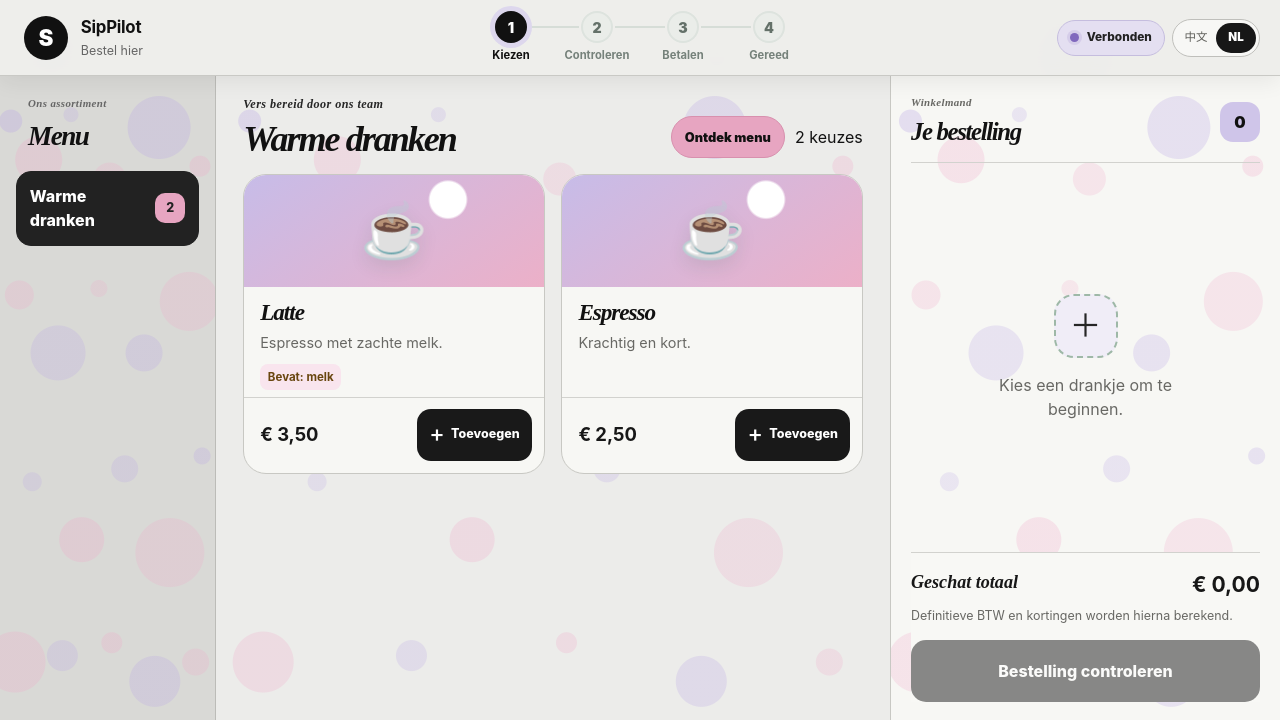
Customer kiosk ordering workflow › completes payment and displays the backend receipt and pickup number
The image size is (1280, 720).
expect the heading "Warme dranken" is shown: met, box [243, 121, 456, 158]
Click the button with aria-label "Latte toevoegen" at [474, 435], box [417, 409, 532, 461]
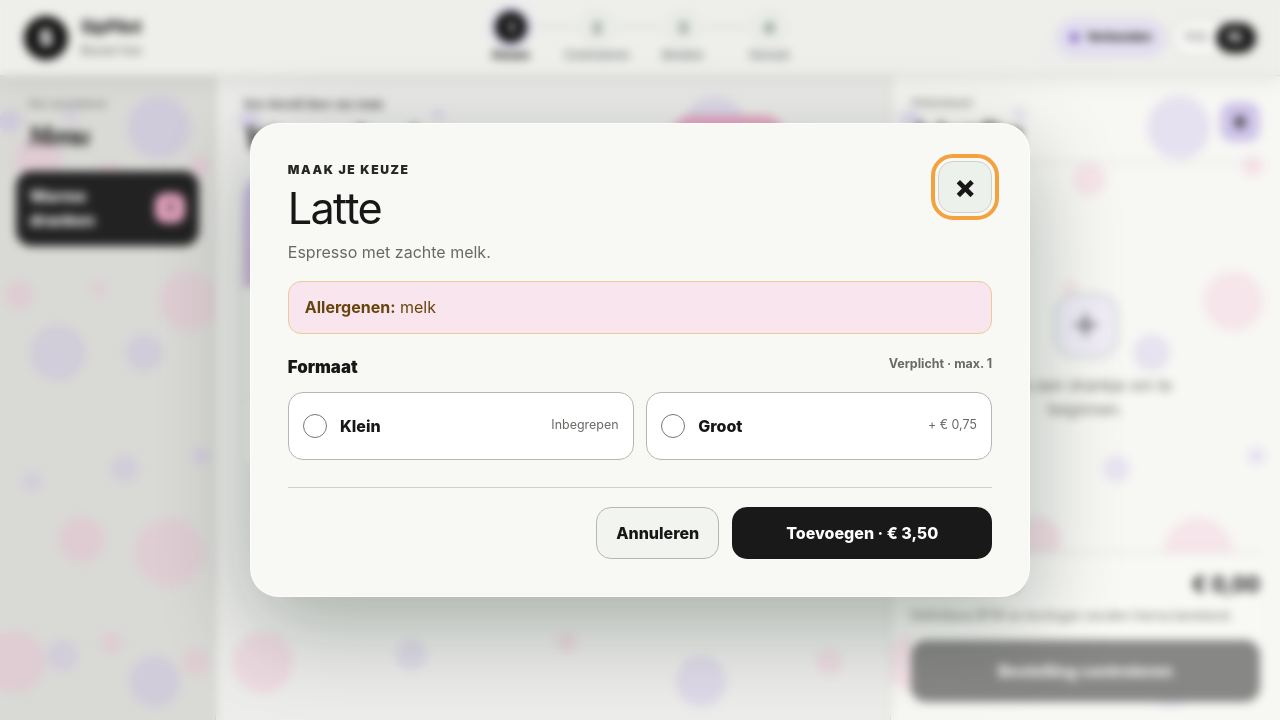
Click the radio button labelled "Groot + € 0,75" at [673, 426], box [661, 414, 685, 438]
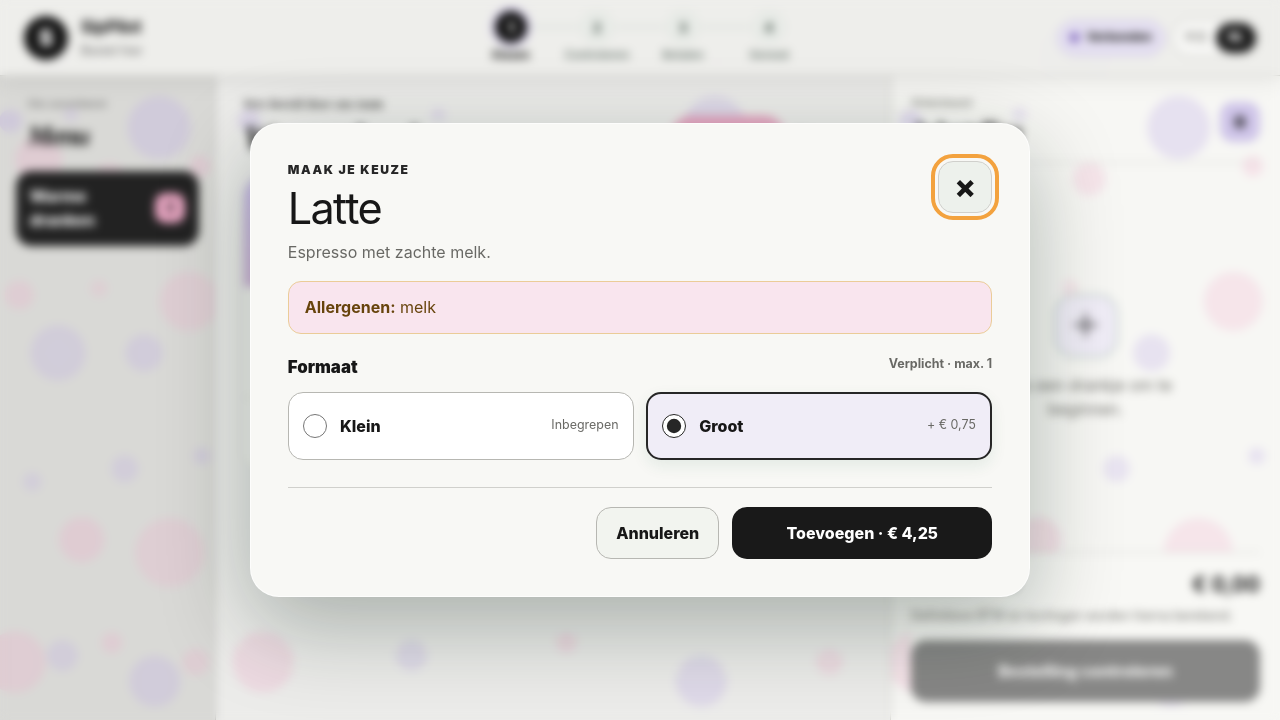
Click the button "Toevoegen · € 4,25" at [862, 533], box [732, 507, 992, 559]
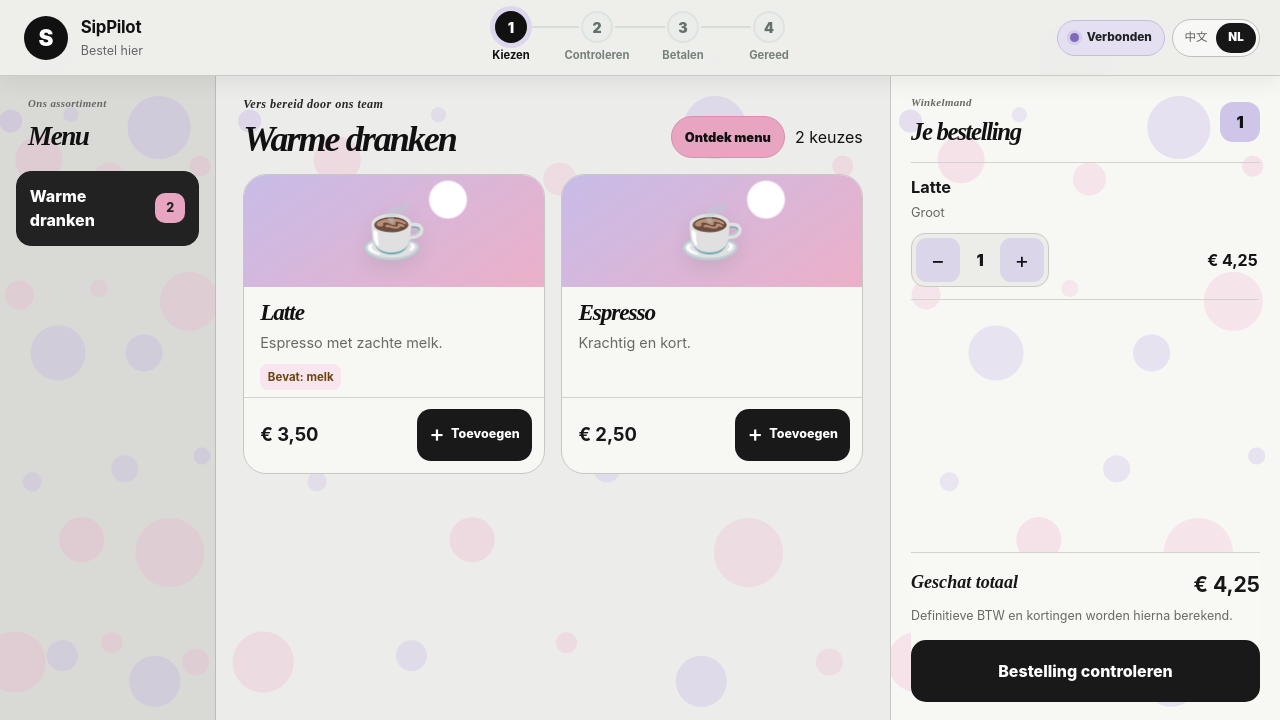
Click the button "Bestelling controleren" at [1086, 671], box [911, 640, 1260, 702]
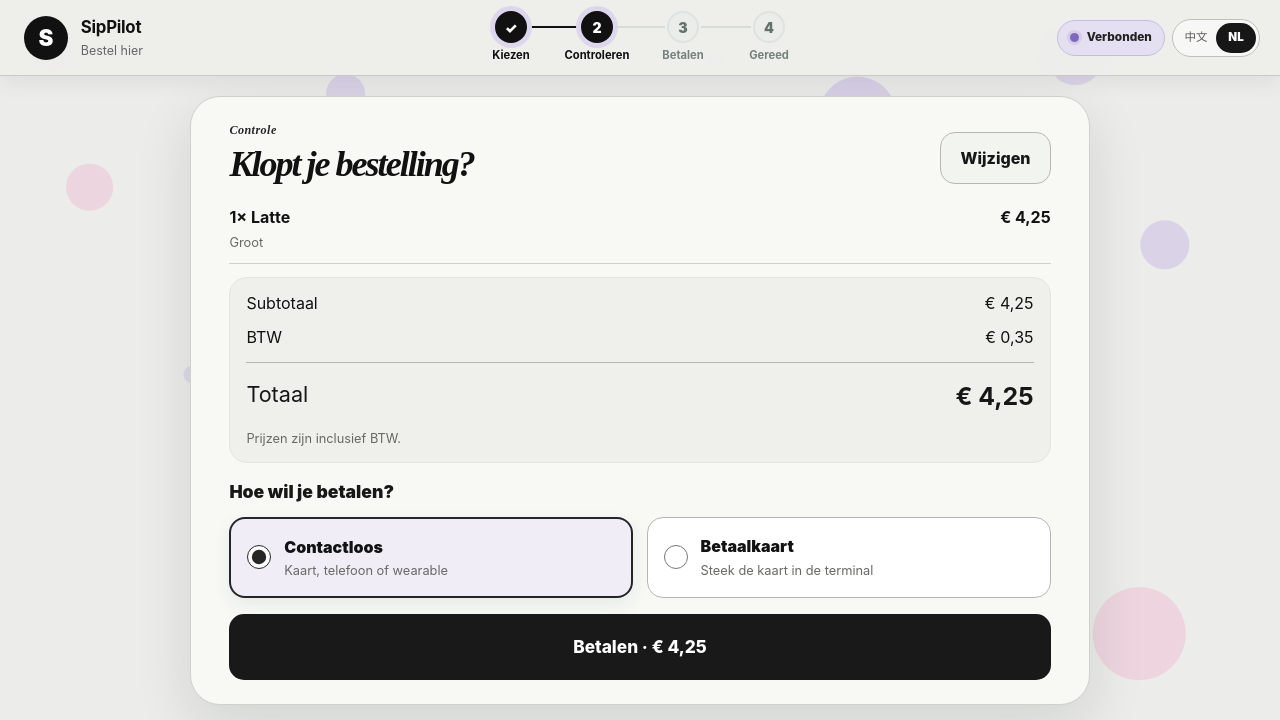
expect the heading "Klopt je bestelling?" is shown: met, box [229, 146, 474, 184]
Click the button "Betalen · € 4,25" at [640, 647], box [229, 614, 1051, 680]
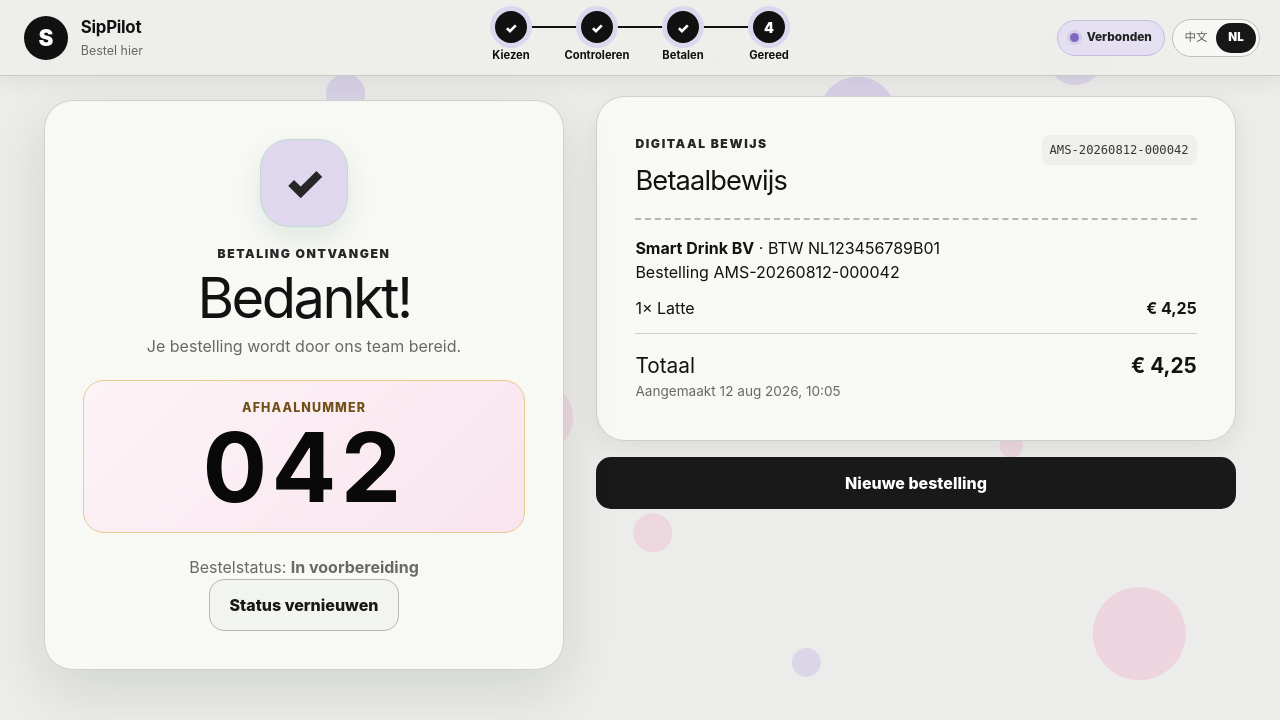
expect the heading "Bedankt!" is shown: met, box [197, 264, 410, 332]
expect the text "042" is shown: met, box [202, 409, 406, 525]
expect the heading "Betaalbewijs" is shown: met, box [635, 161, 787, 202]
